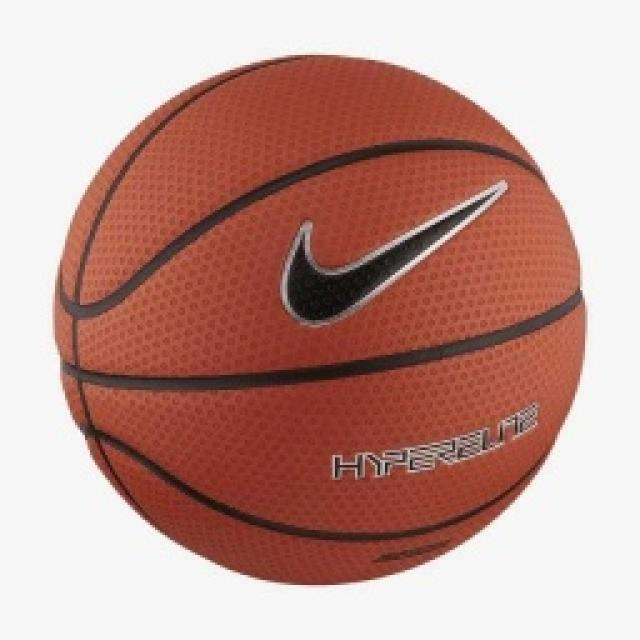rim: (36, 42, 596, 598)
